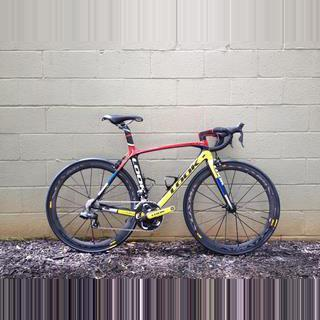Bike: (43, 114, 285, 261)
